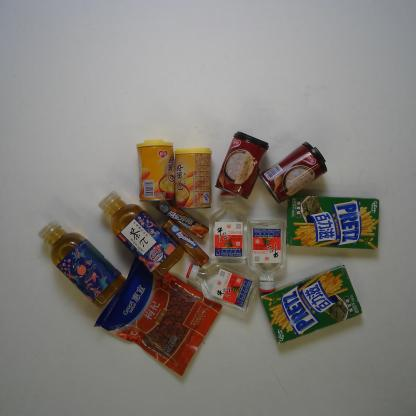Alcohol: (182, 261, 260, 313), (247, 219, 288, 294), (208, 192, 249, 262)
Candy: (161, 219, 210, 268), (154, 199, 210, 239)
Canned Food: (258, 140, 328, 204), (214, 129, 270, 200), (135, 138, 176, 202), (174, 147, 213, 210)
Dessert: (261, 263, 363, 346), (285, 193, 383, 252)
Dried Fruit: (92, 253, 224, 380)
Drink: (36, 219, 128, 309), (97, 190, 186, 280)
